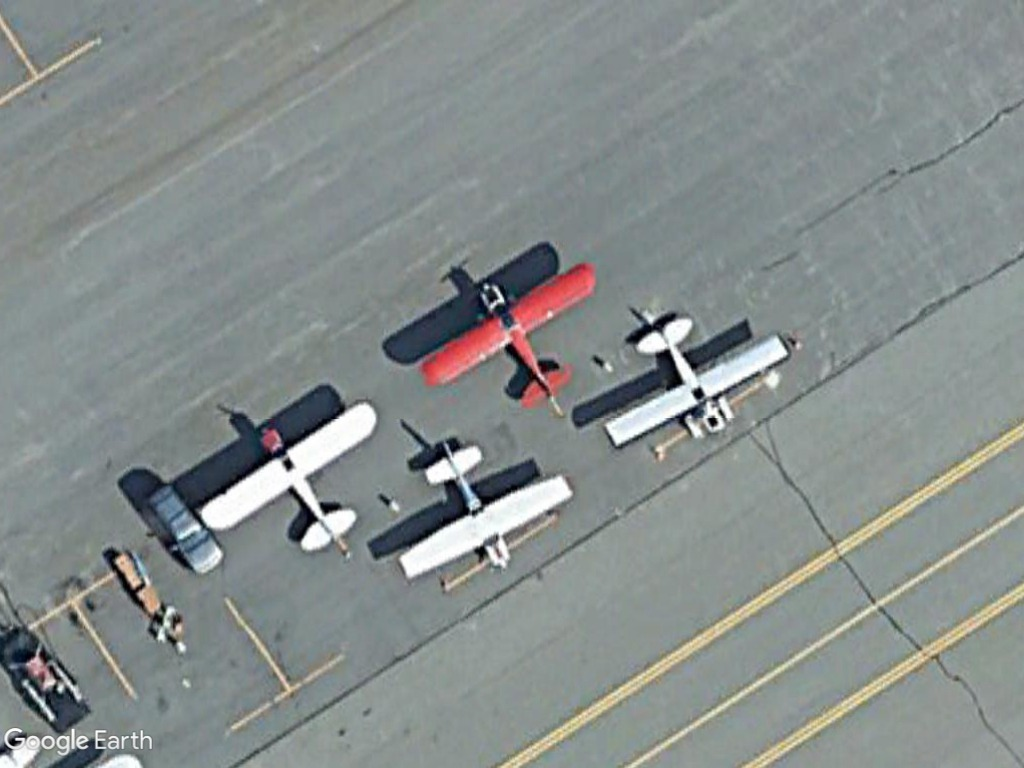trainer: (193, 393, 386, 554), (416, 252, 611, 411), (595, 302, 798, 453), (390, 433, 577, 586)
van: (137, 484, 229, 579)
